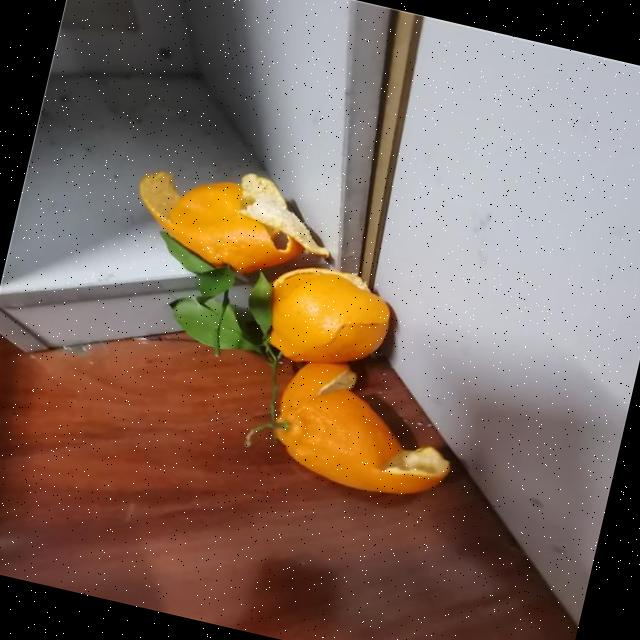orange-peel: (263, 372, 462, 508), (124, 158, 316, 286), (254, 254, 398, 380)
